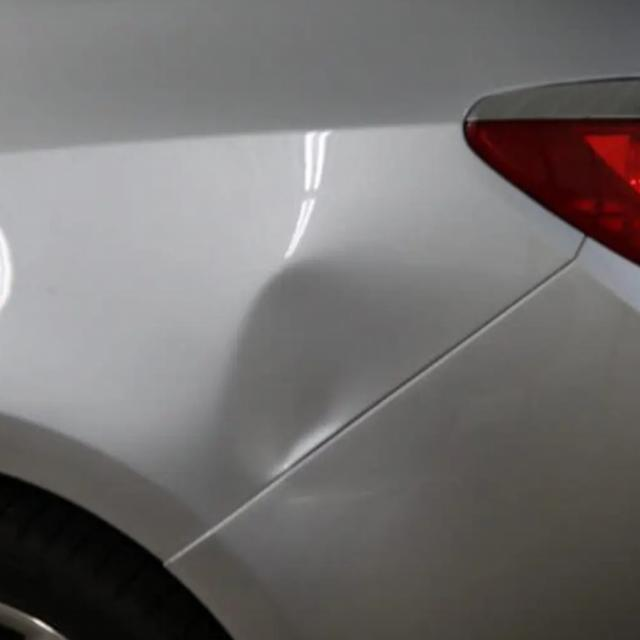dents: (218, 259, 395, 482)
